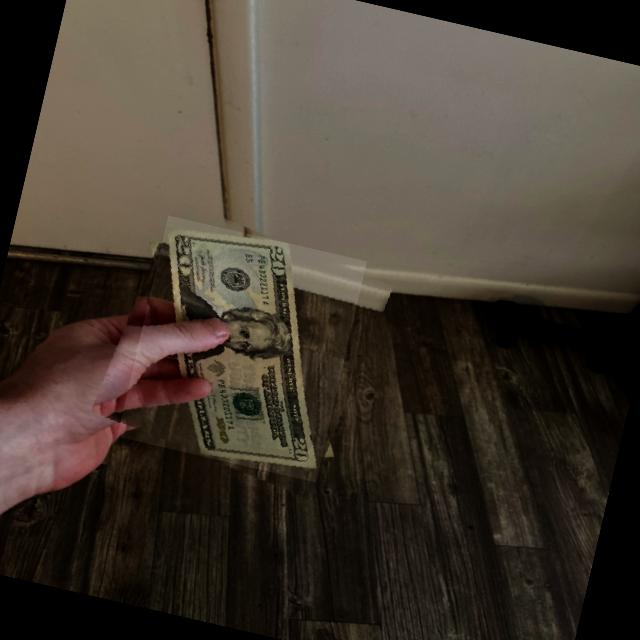twenty: (161, 211, 318, 487)
